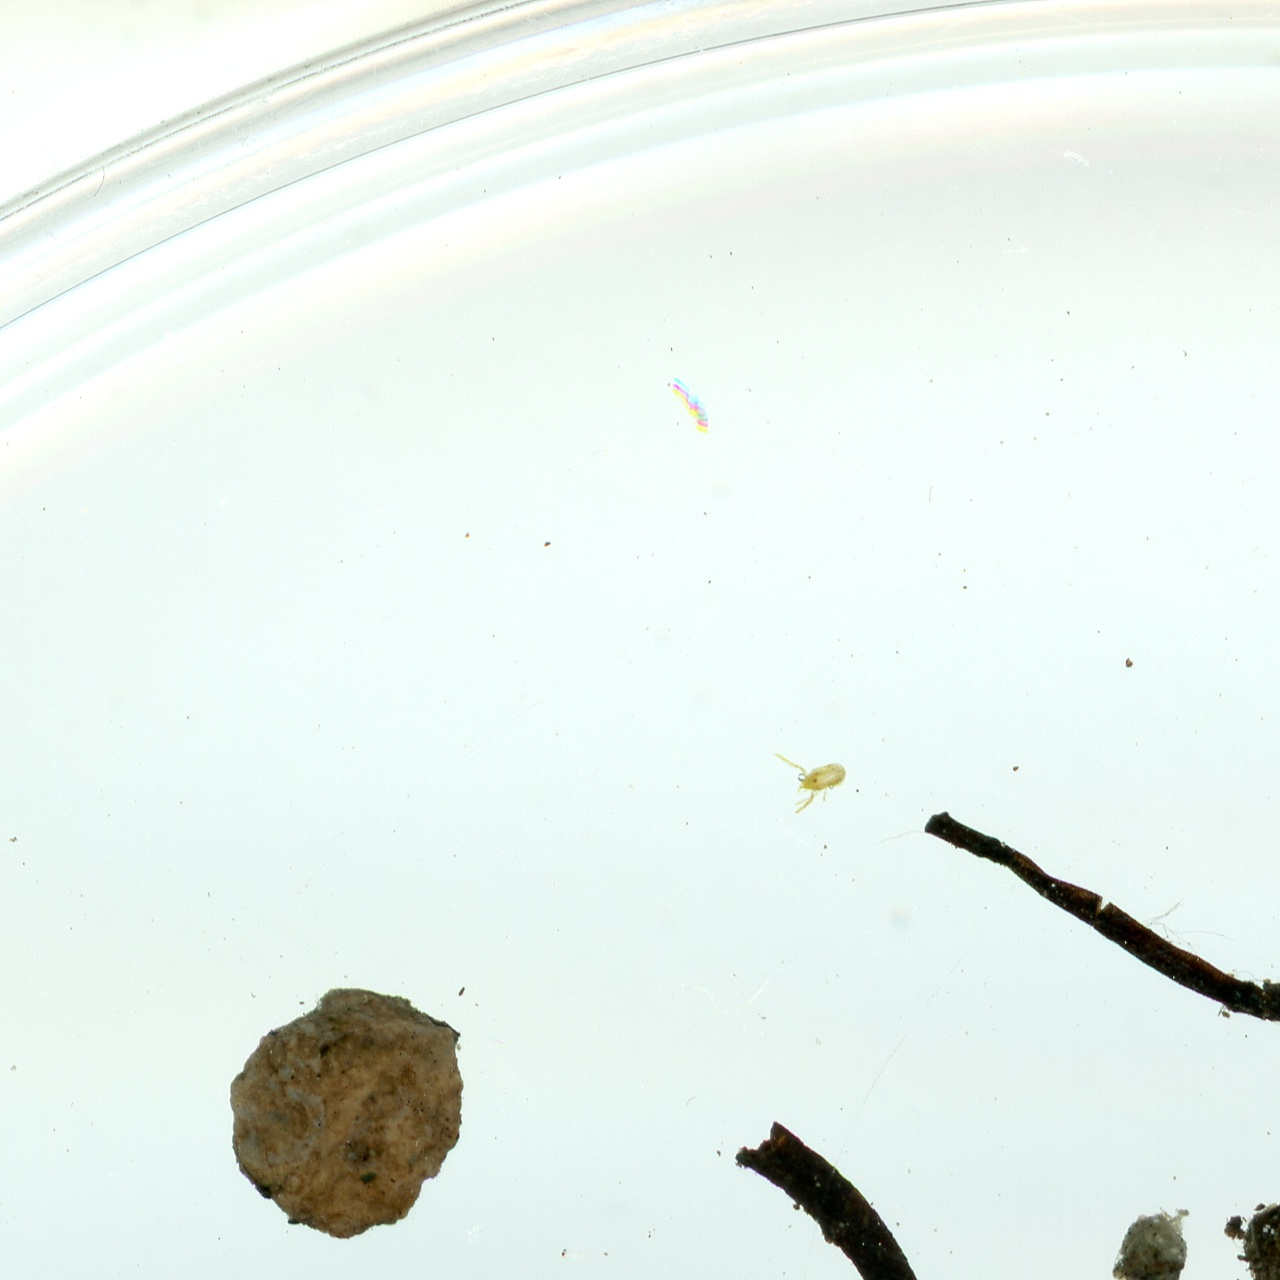arthropod: (767, 734, 860, 822)
